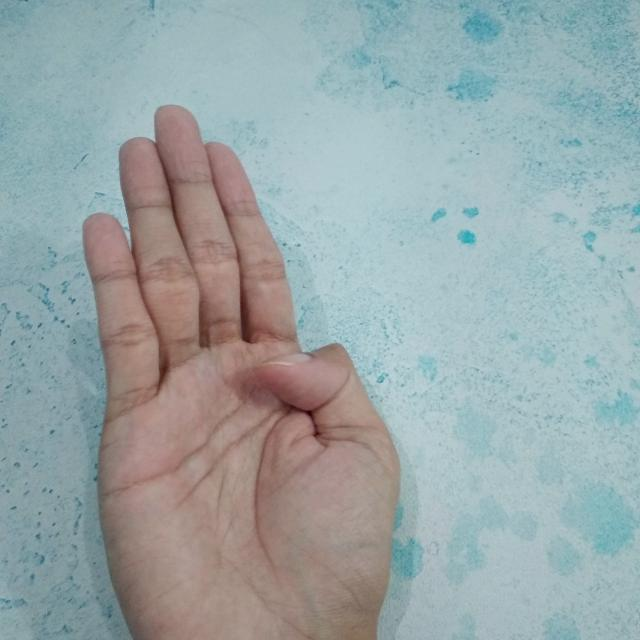B: (78, 94, 403, 640), (79, 100, 403, 640), (79, 101, 400, 640), (82, 102, 398, 640)
